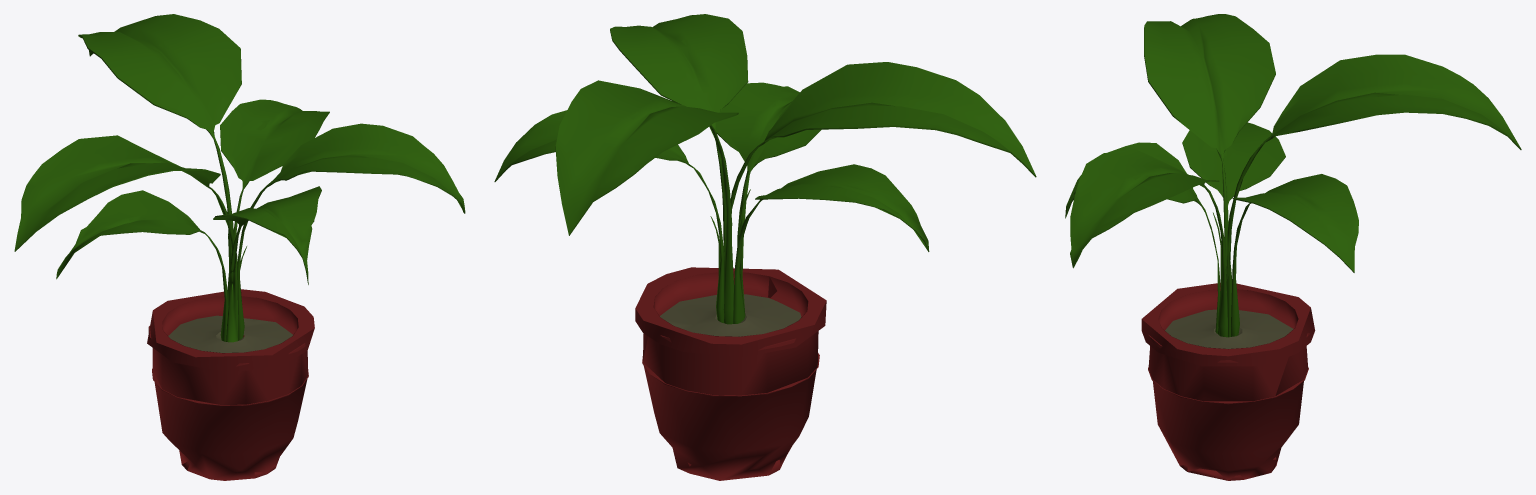
File: potted_plant_2.glb
3 renders of one model, left to right at view 1: azimuth 30°, elevation 25°; view 2: azimuth 150°, elevation 25°; view 3: azimuth 270°, elevation 25°, orthographic. The views are drawn at different scales.
Visible parts, largest first — view 1: polySurface7_lambert2_0, pCylinder1_lambert3_0, pCylinder1_lambert4_0; view 2: polySurface7_lambert2_0, pCylinder1_lambert3_0, pCylinder1_lambert4_0; view 3: polySurface7_lambert2_0, pCylinder1_lambert3_0, pCylinder1_lambert4_0.
Part boxes in pixels (x1,y1,x2,y2): polySurface7_lambert2_0: (14, 14, 465, 342); pCylinder1_lambert3_0: (147, 289, 314, 480); pCylinder1_lambert4_0: (168, 315, 292, 352); polySurface7_lambert2_0: (494, 14, 1036, 324); pCylinder1_lambert3_0: (635, 267, 826, 480); pCylinder1_lambert4_0: (660, 294, 801, 336); polySurface7_lambert2_0: (1065, 14, 1521, 337); pCylinder1_lambert3_0: (1141, 283, 1315, 480); pCylinder1_lambert4_0: (1165, 309, 1293, 348).
Bounding box in the file's own units: 0.6957 × 0.6 × 0.6598.
3 materials, 1 textured.
